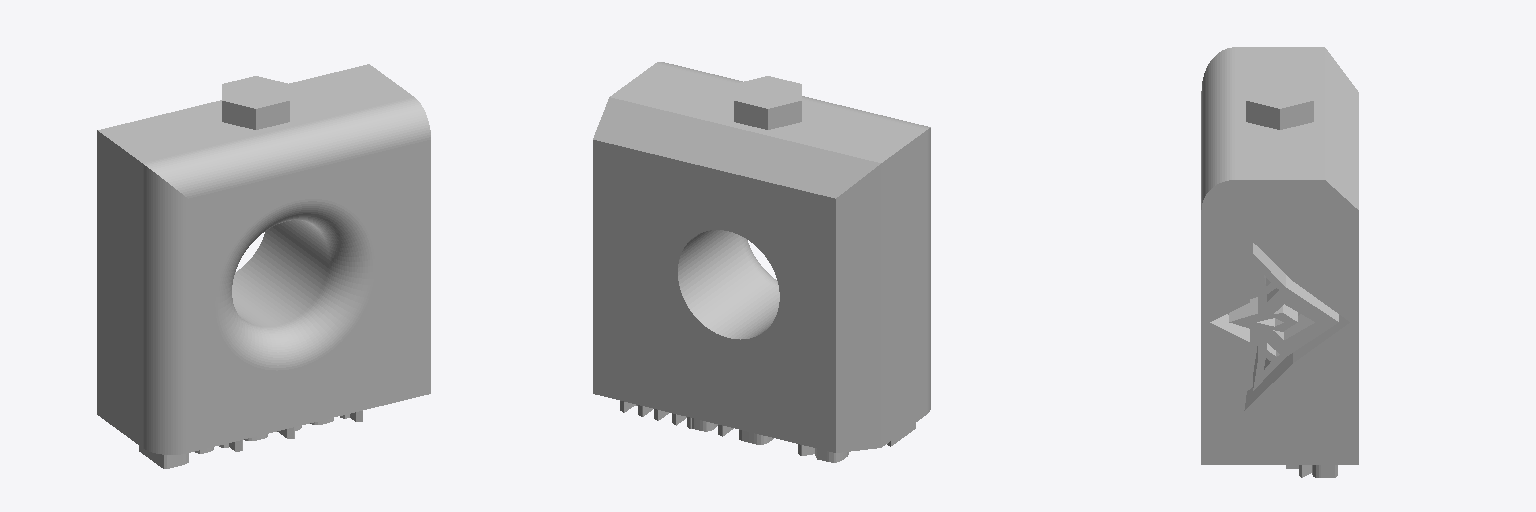
The model's file is shakedown.obj.
The picture shows the model from 3 angles: view 1: azimuth 30°, elevation 25°; view 2: azimuth 150°, elevation 25°; view 3: azimuth 270°, elevation 25°; orthographic projection.
Visible parts, largest first — view 1: pCube17; view 2: pCube17; view 3: pCube17.
Boxes of the visible parts, x1,y1,x2,y2 form: pCube17: [97, 64, 430, 468]; pCube17: [593, 62, 930, 462]; pCube17: [1201, 47, 1358, 477].
Size of the model in its own units: 4 by 4.6 by 2.